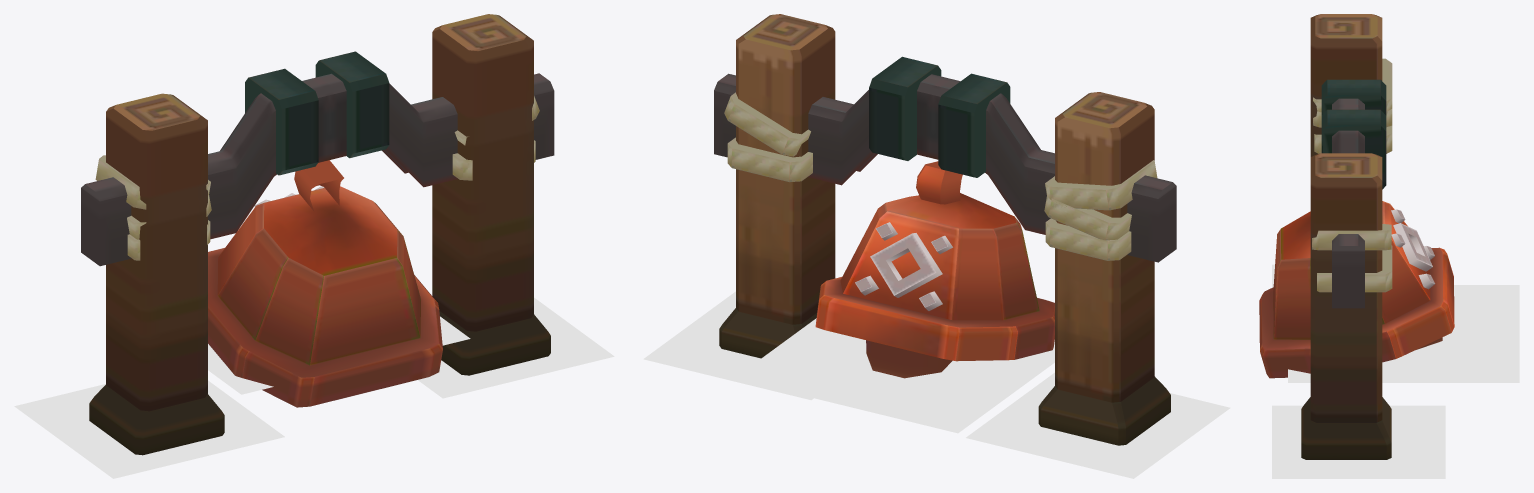
Rendered from [gimmick]bell_orange.fbx.
The picture shows the model from 3 angles, left to right: view 1: azimuth 30°, elevation 25°; view 2: azimuth 150°, elevation 25°; view 3: azimuth 270°, elevation 25°; orthographic projection. The views are drawn at different scales.
Visible parts, largest first — view 1: [gimmick]bell_orange, bell_orange, shadow2, shadow1, shadow; view 2: [gimmick]bell_orange, bell_orange, shadow, shadow2, shadow1; view 3: [gimmick]bell_orange, bell_orange, shadow, shadow1.
Part boxes in pixels (<box>): [gimmick]bell_orange: <box>81,14,554,455</box>; bell_orange: <box>208,160,442,407</box>; shadow2: <box>14,380,284,478</box>; shadow1: <box>418,297,614,398</box>; shadow: <box>208,316,470,394</box>; [gimmick]bell_orange: <box>714,14,1176,445</box>; bell_orange: <box>815,161,1054,378</box>; shadow: <box>734,318,1054,433</box>; shadow2: <box>966,372,1230,478</box>; shadow1: <box>643,291,813,400</box>; [gimmick]bell_orange: <box>1301,14,1392,459</box>; bell_orange: <box>1259,201,1454,378</box>; shadow: <box>1288,285,1519,382</box>; shadow1: <box>1272,405,1445,478</box>.
Size of the model in its own units: 2.62 by 1.59 by 1.35.
2 materials, 2 textured.
